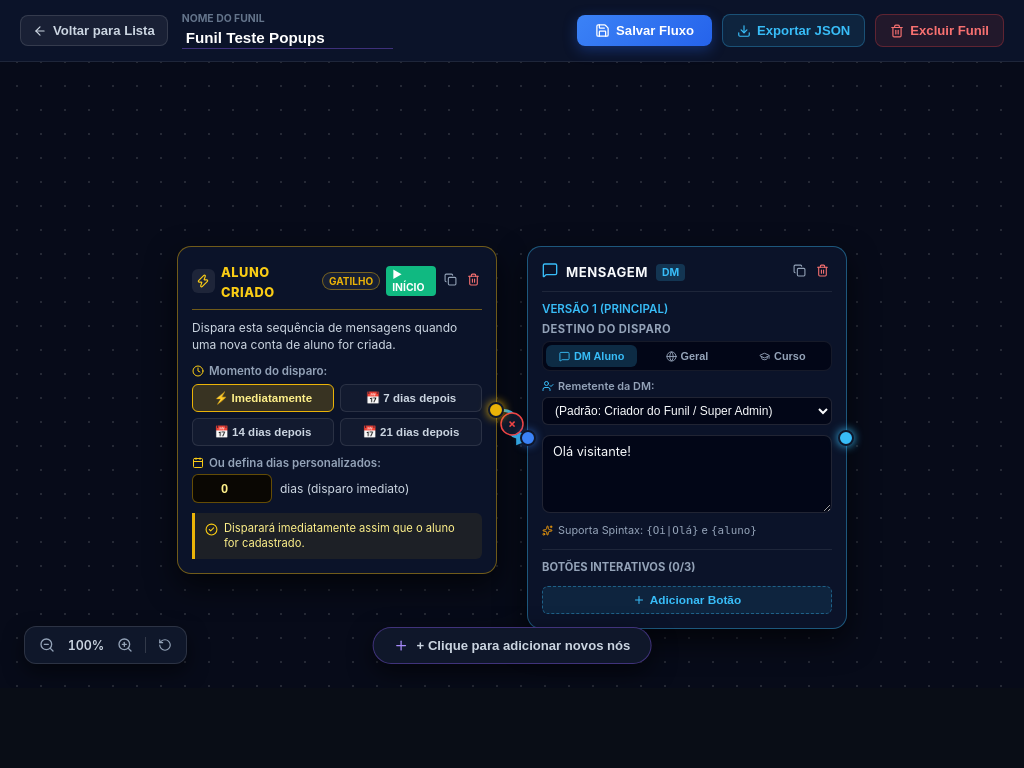
Test case: FunnelCanvasPage Component - Confirmação de Ações em Nós › abre popup de confirmação ao clicar em excluir nó e permite cancelar sem remover
Check: the field showing "Funil Teste Popups" is shown, box [182,27,393,49]
Check: the text box showing "Olá visitante!" is shown, box [542,435,832,513]
Click the button titled "Excluir Nó" at (822, 272), box [813,261,832,283]
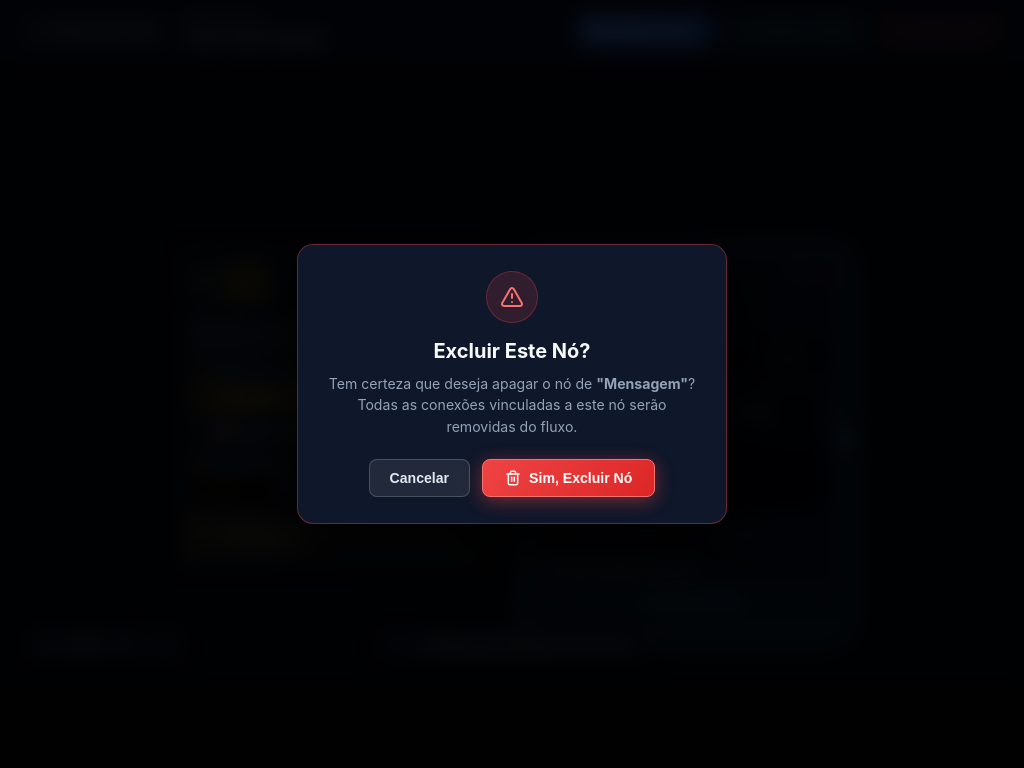
Check: the element with test id "funnel-node-delete-modal" is shown, box [297,244,727,524]
Check: the heading "Excluir Este Nó?" is shown, box [433,339,590,363]
Clica em Cancelar
Click the button with test id "cancel-node-action-btn" at (419, 478), box [369,459,470,497]
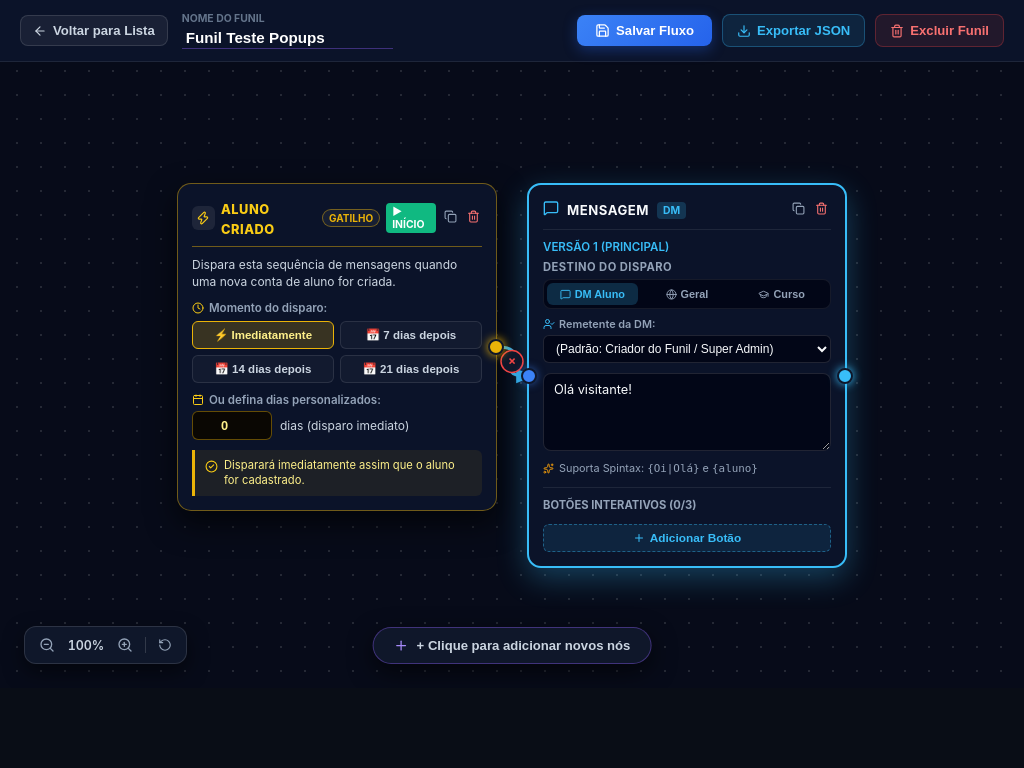
Check: the text box showing "Olá visitante!" is shown, box [543,373,831,451]
Check: the element with test id "funnel-node-delete-modal" is gone
